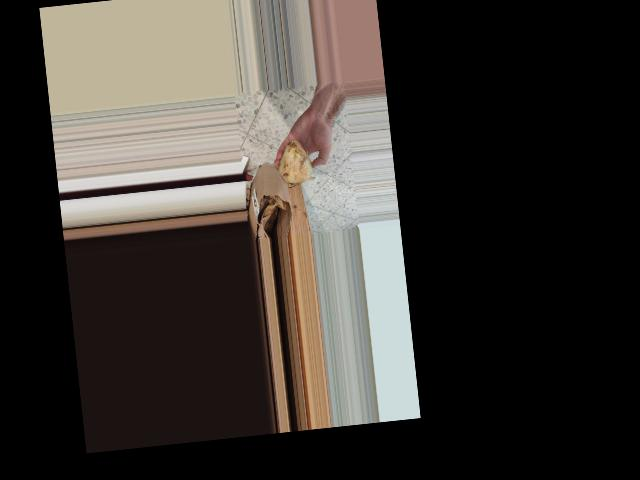onion: (274, 135, 315, 190)
